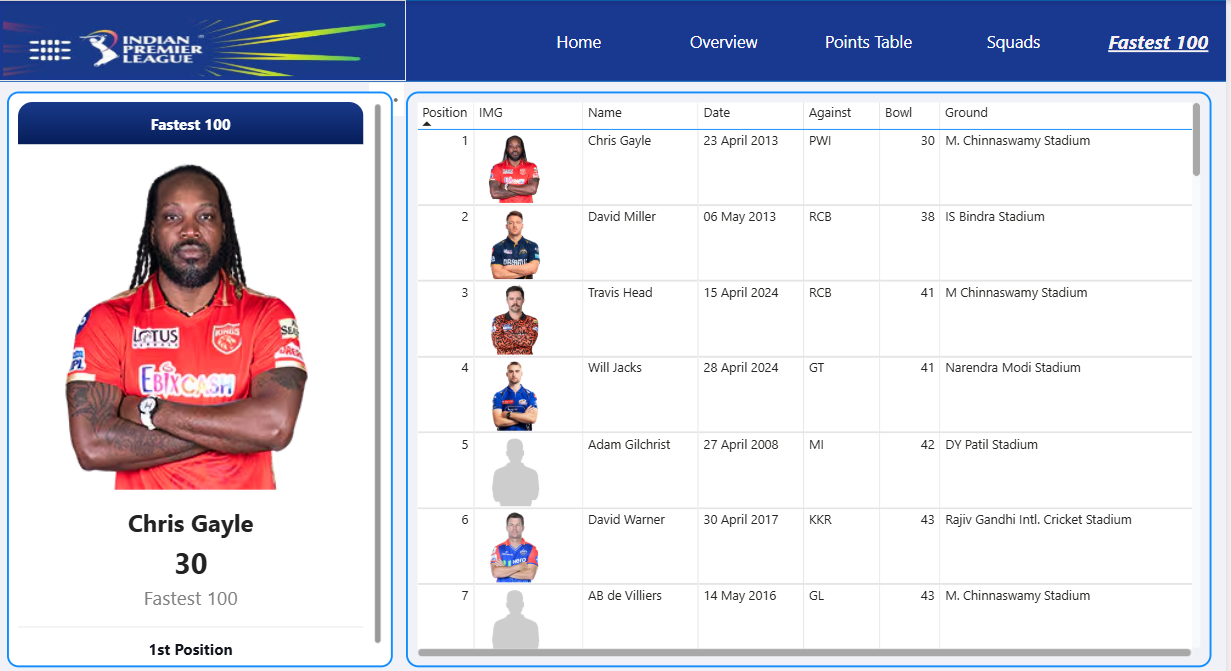

The page's visual inventory and layout, read from the dashboard file:
{"tool":"powerbi","page":{"name":"Fastest 100","canvas":[1280,720],"ordinal":8},"visuals":[{"type":"shape","box":[0,0,2000.6,85],"z":0},{"type":"image","box":[0,0,425.1,84.4],"z":1000},{"type":"pageNavigator","box":[534.5,20.3,745.5,45.3],"z":2000},{"type":"htmlContent443BE3AD55E043BF878BED274D3A6855","fields":{"content":["Records.Top_Players"]},"box":[9.4,95.3,401.7,600.2],"z":3000},{"type":"tableEx","fields":{"Values":["Fast100.Position","Fast100.IMG","Fast100.Name","Fast100.Date","Fast100.Against","Fast100.Bowl","Fast100.Ground"]},"box":[425.1,95.3,839.3,600.2],"z":4000}]}

Visuals, with their boxes on the page's 1280x720 design canvas (x1, y1, x2, y2). These are canvas units, not pixel positions in the 1231x671 screenshot, which may show the page scaled, cropped or inside an application window:
shape: 0/0/2001/85
image: 0/0/425/84
pageNavigator: 534/20/1280/66
htmlContent443BE3AD55E043BF878BED274D3A6855 - Records.Top_Players: 9/95/411/696
tableEx - Fast100.Position x Fast100.IMG: 425/95/1264/696
